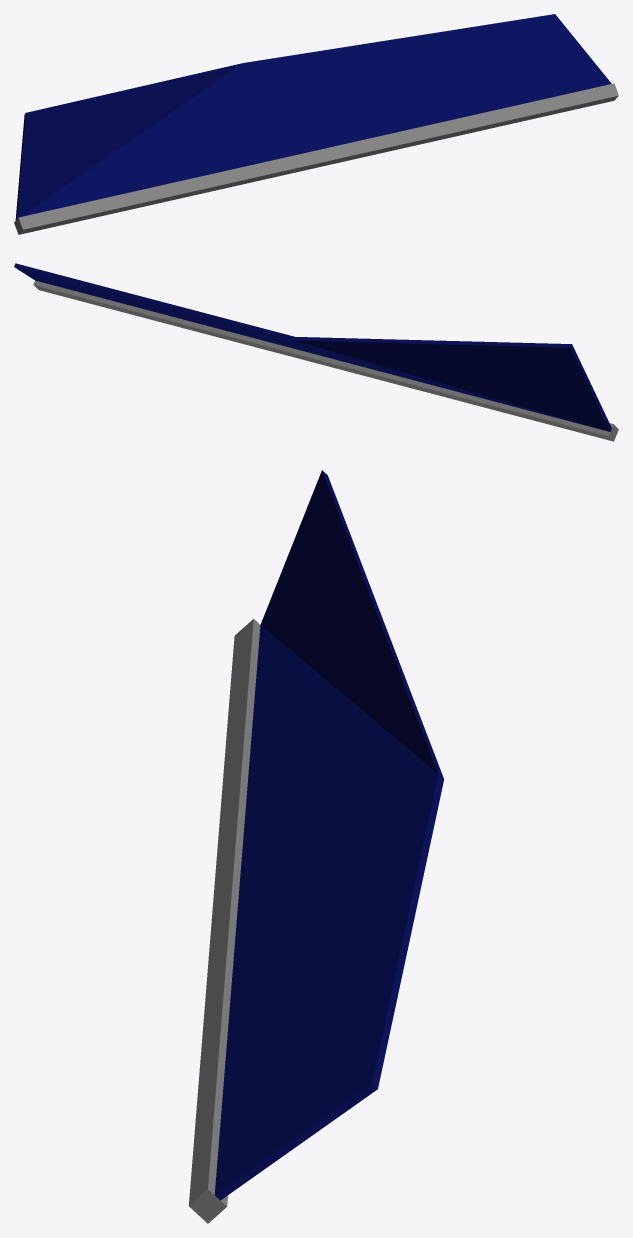
The model's file is solar_battery.fbx.
3 renders of one model, top to bottom at view 1: azimuth 30°, elevation 25°; view 2: azimuth 150°, elevation 25°; view 3: azimuth 270°, elevation 25°, orthographic. The views are drawn at different scales.
Parts seen in each view (by area): view 1: solar_battery; view 2: solar_battery; view 3: solar_battery.
Boxes of the visible parts, <box> form: solar_battery: <box>14,14,618,234</box>; solar_battery: <box>14,263,618,441</box>; solar_battery: <box>188,470,443,1223</box>.
Size of the model in its own units: 423 by 71.62 by 79.97.
